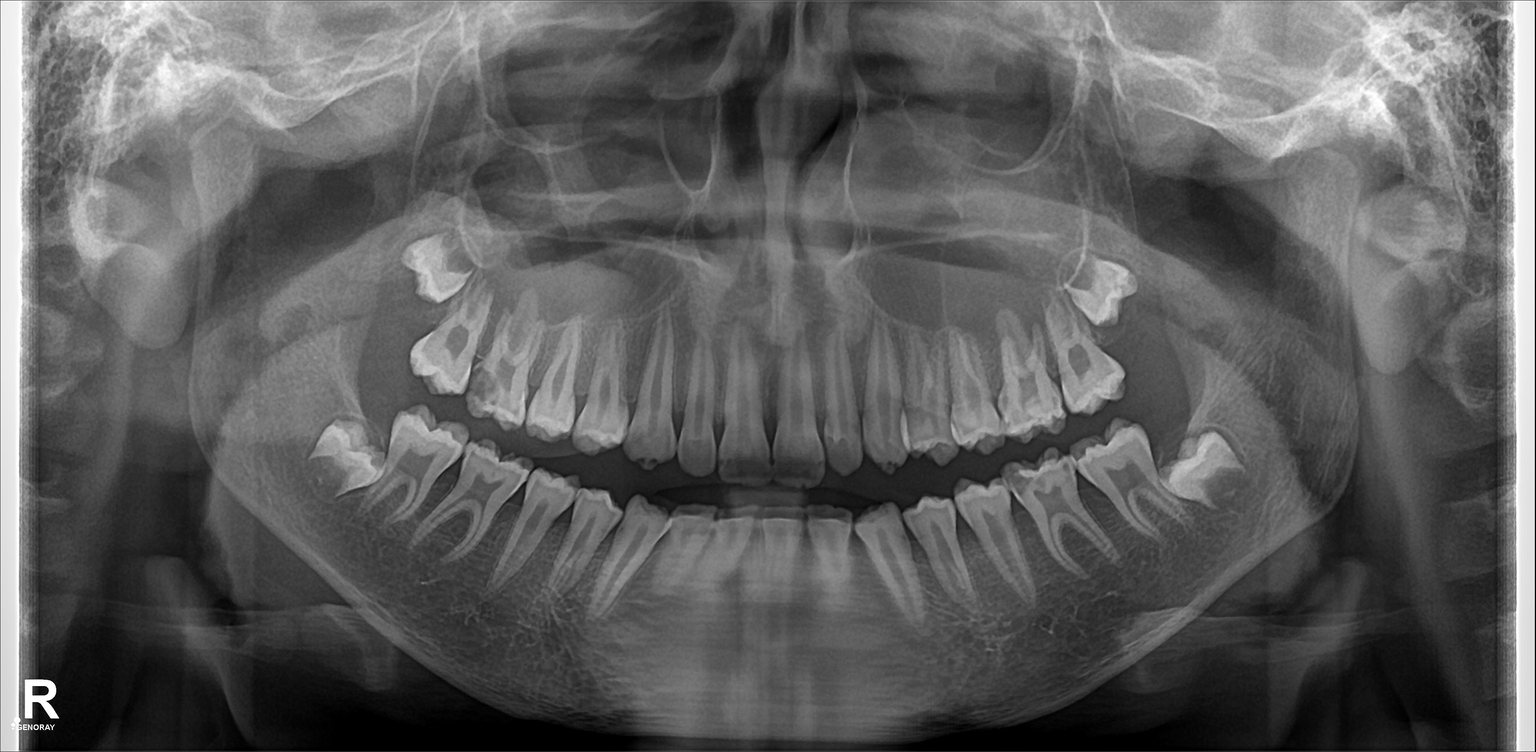Dental Caries: (467, 372, 501, 407)
Impacted Third Molar: (1177, 436, 1248, 511), (320, 419, 389, 490), (1073, 257, 1135, 326), (410, 240, 471, 295)
